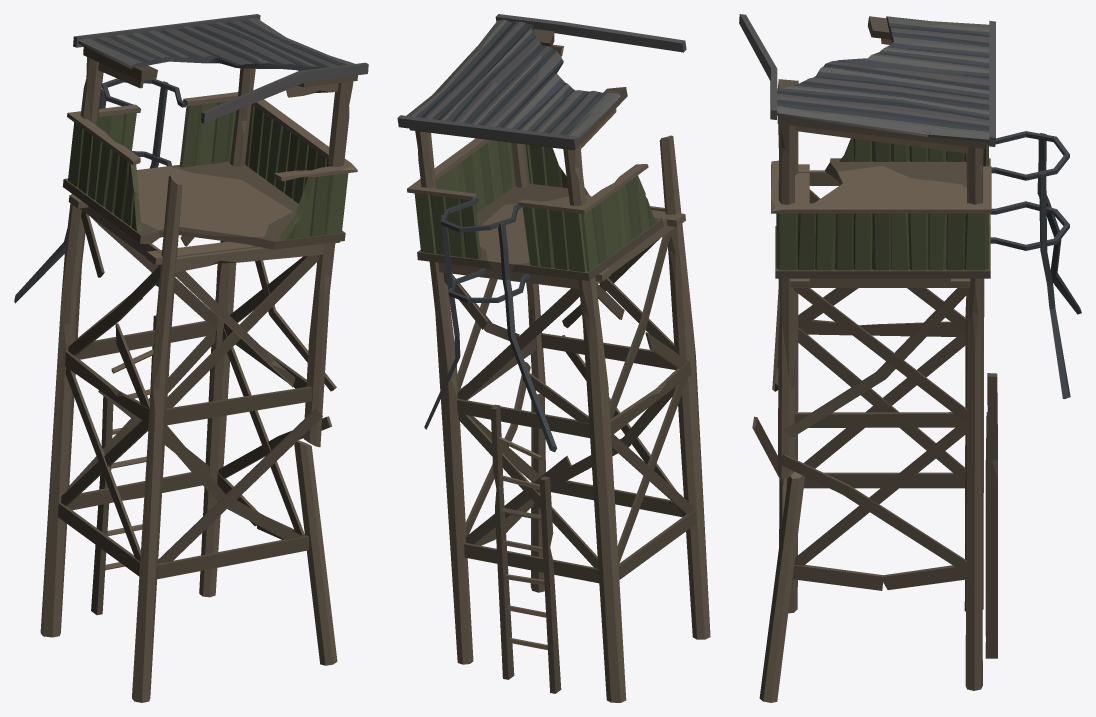
The model's file is SM_Bld_GuardTower_Destroyed_01.fbx.
3 views of the same model, side by side, from view 1: azimuth 30°, elevation 25°; view 2: azimuth 150°, elevation 25°; view 3: azimuth 270°, elevation 25° (orthographic). The views are drawn at different scales.
Visible parts, largest first — view 1: SM_Bld_GuardTower_Destroyed_01; view 2: SM_Bld_GuardTower_Destroyed_01; view 3: SM_Bld_GuardTower_Destroyed_01.
Boxes of the visible parts, <box> form: SM_Bld_GuardTower_Destroyed_01: <box>14,14,368,702</box>; SM_Bld_GuardTower_Destroyed_01: <box>397,14,710,702</box>; SM_Bld_GuardTower_Destroyed_01: <box>739,14,1081,702</box>.
Size of the model in its own units: 358 by 891 by 447.
